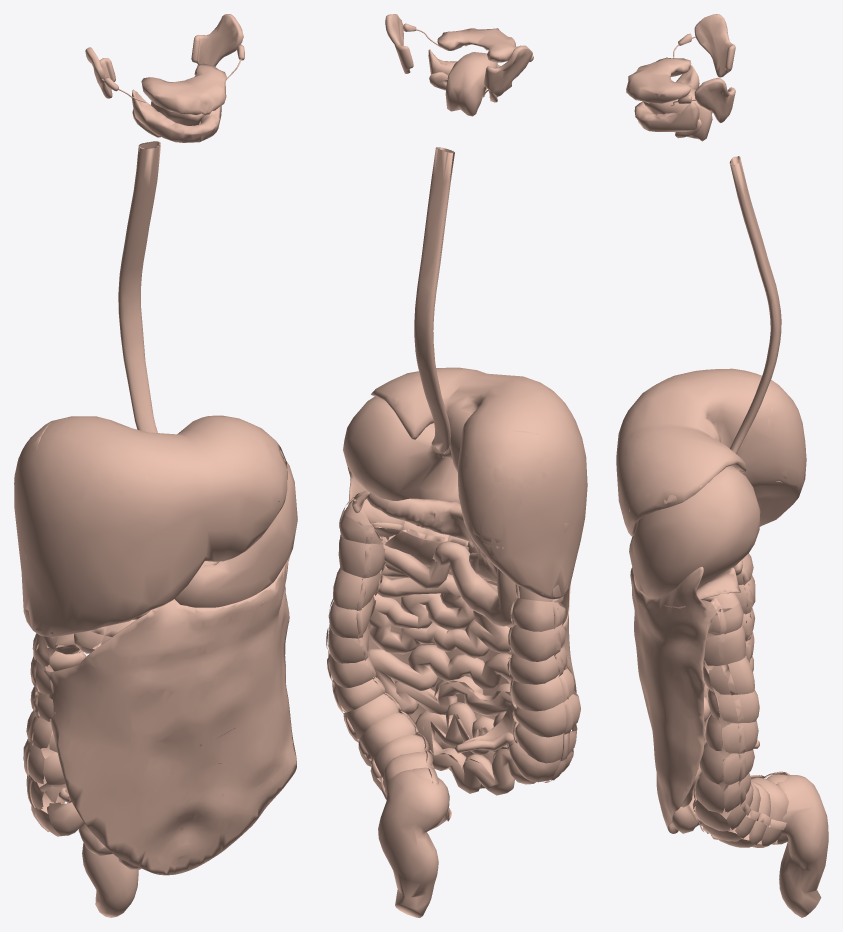
Rendered from digest.glb.
3 views of the same model, side by side, from view 1: azimuth 30°, elevation 25°; view 2: azimuth 150°, elevation 25°; view 3: azimuth 270°, elevation 25° (orthographic). The views are drawn at different scales.
Parts seen in each view (by area): view 1: Greater omentum, Liver, Oesophagus, Ascending colon, Stomach, Gingiva, Sigmoid colon, Posterior medial segment of liver (VIII), Parotid gland.001x, Mesocolic taenia, Left posterior lateral segment of liver (II), Transverse colon (+2 smaller); view 2: Liver, Jejunum, Descending colon, Ascending colon, Stomach, Sigmoid colon, Oesophagus, Posterior lateral segment of liver (VII), Duodenum, Pancreas, Greater omentum, Free taenia (+9 smaller); view 3: Liver, Greater omentum, Descending colon, Stomach, Sigmoid colon, Gingiva, Oesophagus, Mesocolic taenia, Parotid gland, Parotid gland.001x, Left posterior lateral segment of liver (II), Jejunum (+5 smaller).
Boxes of the visible parts, box(x1,y1,x2,y2) form: Greater omentum: box(44, 558, 296, 875); Liver: box(14, 415, 287, 637); Oesophagus: box(118, 141, 160, 432); Ascending colon: box(23, 633, 84, 836); Stomach: box(174, 462, 297, 607); Gingiva: box(131, 63, 226, 142); Sigmoid colon: box(82, 843, 138, 917); Posterior medial segment of liver (VIII): box(44, 416, 149, 500); Parotid gland.001x: box(191, 14, 243, 66); Mesocolic taenia: box(23, 627, 118, 832); Left posterior lateral segment of liver (II): box(215, 420, 285, 501); Transverse colon: box(74, 619, 136, 653); Liver: box(371, 367, 587, 598); Jejunum: box(368, 541, 535, 795); Descending colon: box(328, 499, 449, 829); Ascending colon: box(508, 585, 580, 782); Stomach: box(343, 396, 460, 503); Sigmoid colon: box(378, 769, 449, 917); Oesophagus: box(414, 147, 454, 453); Posterior lateral segment of liver (VII): box(458, 430, 565, 542); Duodenum: box(432, 541, 518, 626); Pancreas: box(367, 492, 496, 582); Greater omentum: box(347, 467, 576, 788); Free taenia: box(356, 522, 518, 785); Liver: box(616, 368, 806, 536); Greater omentum: box(630, 566, 710, 833); Descending colon: box(695, 590, 788, 847); Stomach: box(629, 466, 760, 598); Sigmoid colon: box(776, 775, 828, 917); Gingiva: box(626, 57, 699, 131); Oesophagus: box(729, 156, 781, 453); Mesocolic taenia: box(701, 596, 786, 830); Parotid gland: box(694, 14, 735, 77); Parotid gland.001x: box(694, 77, 735, 122); Left posterior lateral segment of liver (II): box(624, 432, 743, 517); Jejunum: box(648, 681, 710, 833).
Size of the model in its own units: 1.6 by 5.42 by 1.2.
